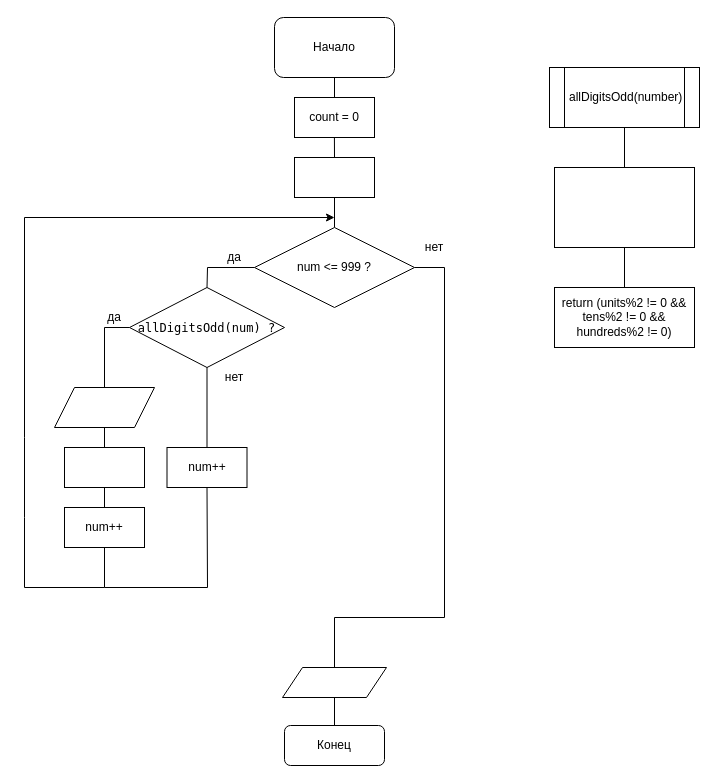
Some shapes in this 717 by 783 pixel diagram are drawn without their labels. The shapes that lost their labels are listed below. From the top down, each one's centre as x and y in pixels, then its label:
At pixel 334 177: "num = 111".
At pixel 624 207: "units = number % 10 tens = (number/10) % 10 hundreds = number / 100".
At pixel 104 407: "вывод num".
At pixel 104 467: "count++".
At pixel 334 682: "вывод count".
